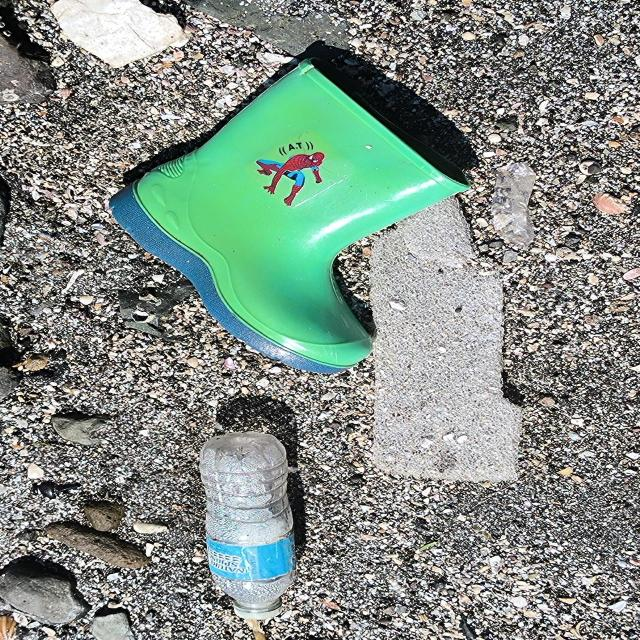plastic_waste: (198, 431, 302, 622)
rubber_waste: (106, 55, 476, 379)
